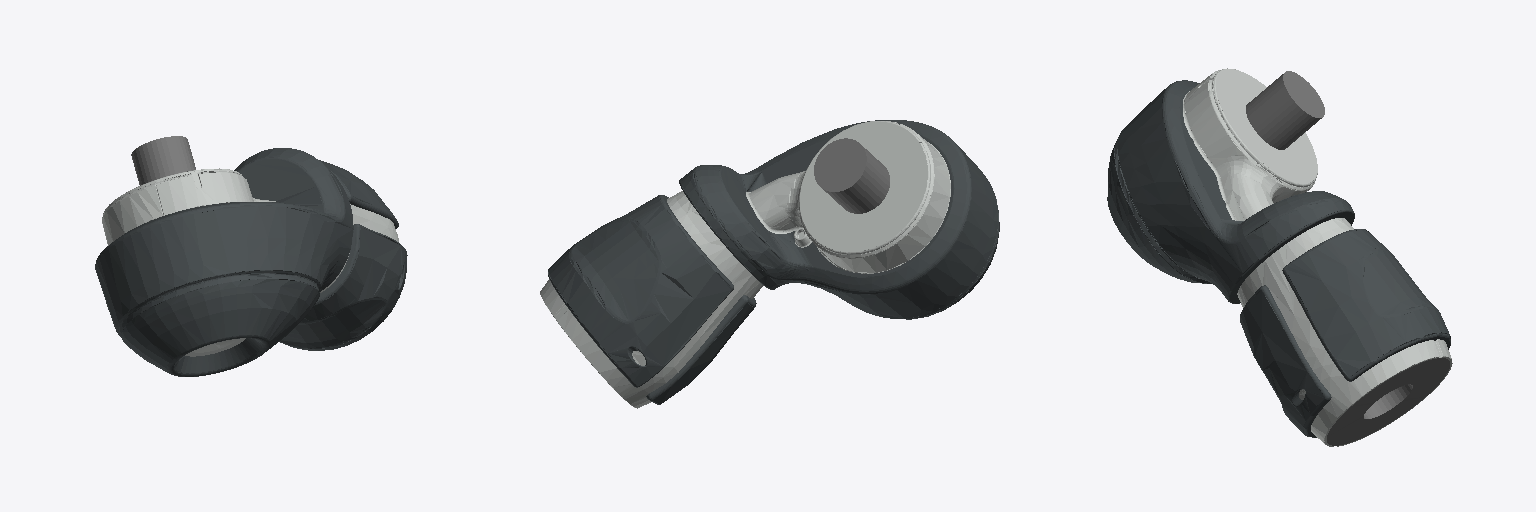
File: IRB14000_rev00_Link4_L.obj
3 renders of one model, left to right at view 1: azimuth 30°, elevation 25°; view 2: azimuth 150°, elevation 25°; view 3: azimuth 270°, elevation 25°, orthographic.
Visible parts, largest first — view 1: Link4_L3.0, Link4_L3.0-1, Link4_L3.0-2; view 2: Link4_L3.0, Link4_L3.0-1, Link4_L3.0-2; view 3: Link4_L3.0, Link4_L3.0-1, Link4_L3.0-2.
Part boxes in pixels (bbox=[...]): Link4_L3.0: bbox=[95, 148, 407, 376]; Link4_L3.0-1: bbox=[102, 168, 398, 356]; Link4_L3.0-2: bbox=[131, 136, 195, 185]; Link4_L3.0: bbox=[548, 120, 999, 404]; Link4_L3.0-1: bbox=[540, 121, 950, 408]; Link4_L3.0-2: bbox=[814, 138, 889, 213]; Link4_L3.0: bbox=[1107, 80, 1450, 437]; Link4_L3.0-1: bbox=[1183, 68, 1452, 446]; Link4_L3.0-2: bbox=[1246, 71, 1449, 445].
Bounding box in the file's own units: 0.2102 × 0.156 × 0.1755.